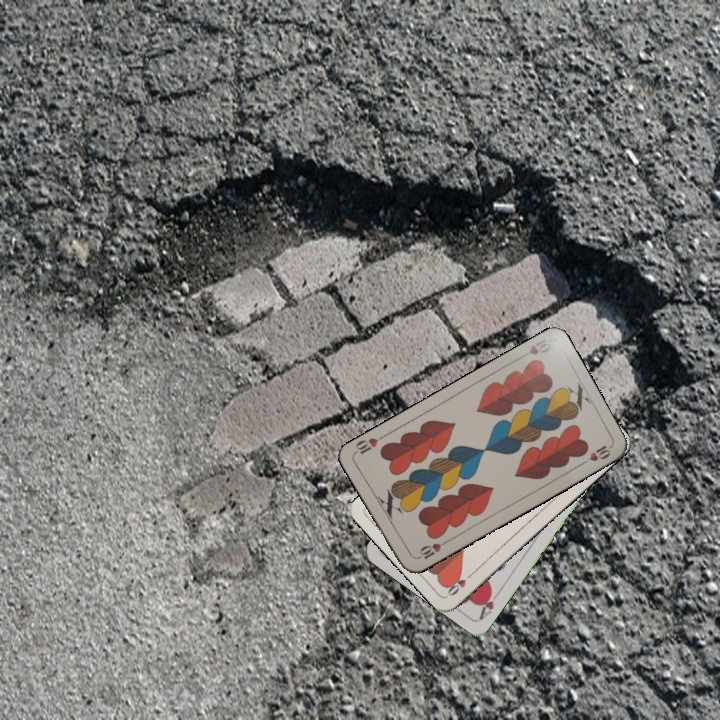H10: (515, 334, 554, 362), (412, 537, 450, 562)
HA: (475, 585, 504, 622)
HO: (443, 568, 477, 599)
